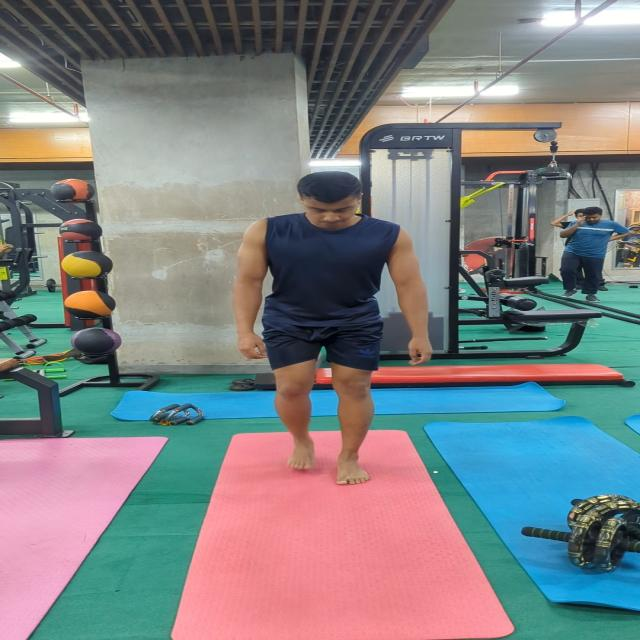Normal_Lunges: (220, 169, 436, 490)
